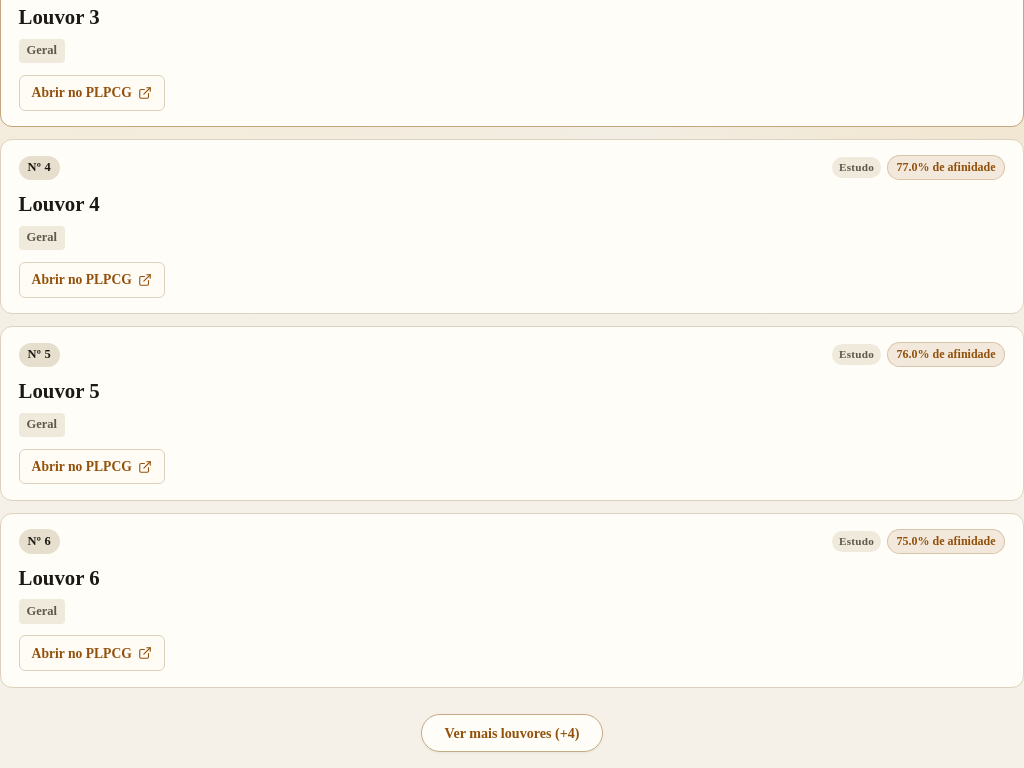
Scenario: AbaLouvores › permite carregar mais louvores quando há mais de 6 itens
The image size is (1024, 768).
(page scrolled)
Click the button with class "louvores-carregar-mais-btn" at (512, 733), box [421,714,603,752]
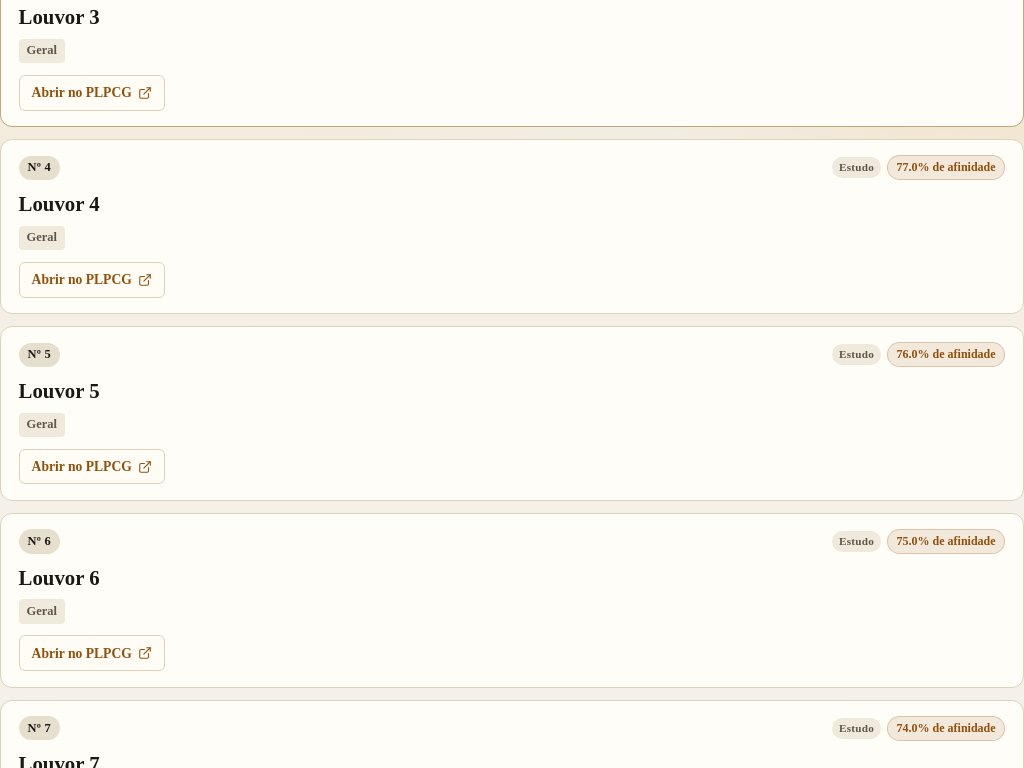
Check: the number of elements with class "louvor-card" is 10
Check: the button with class "louvores-carregar-mais-btn" is gone
